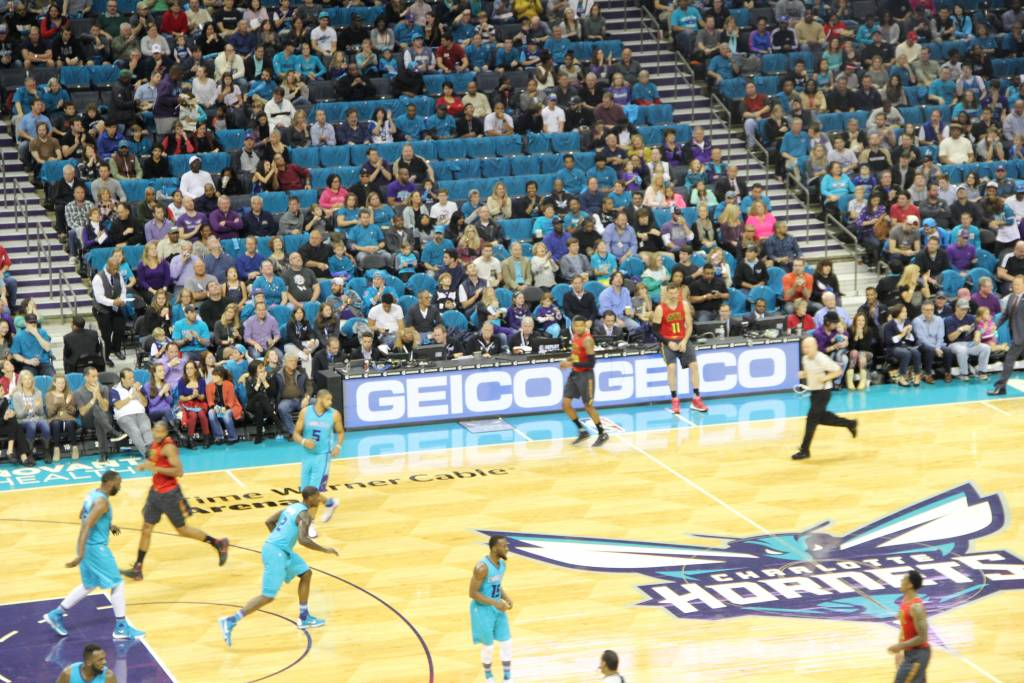geico: (351, 349, 792, 445)
